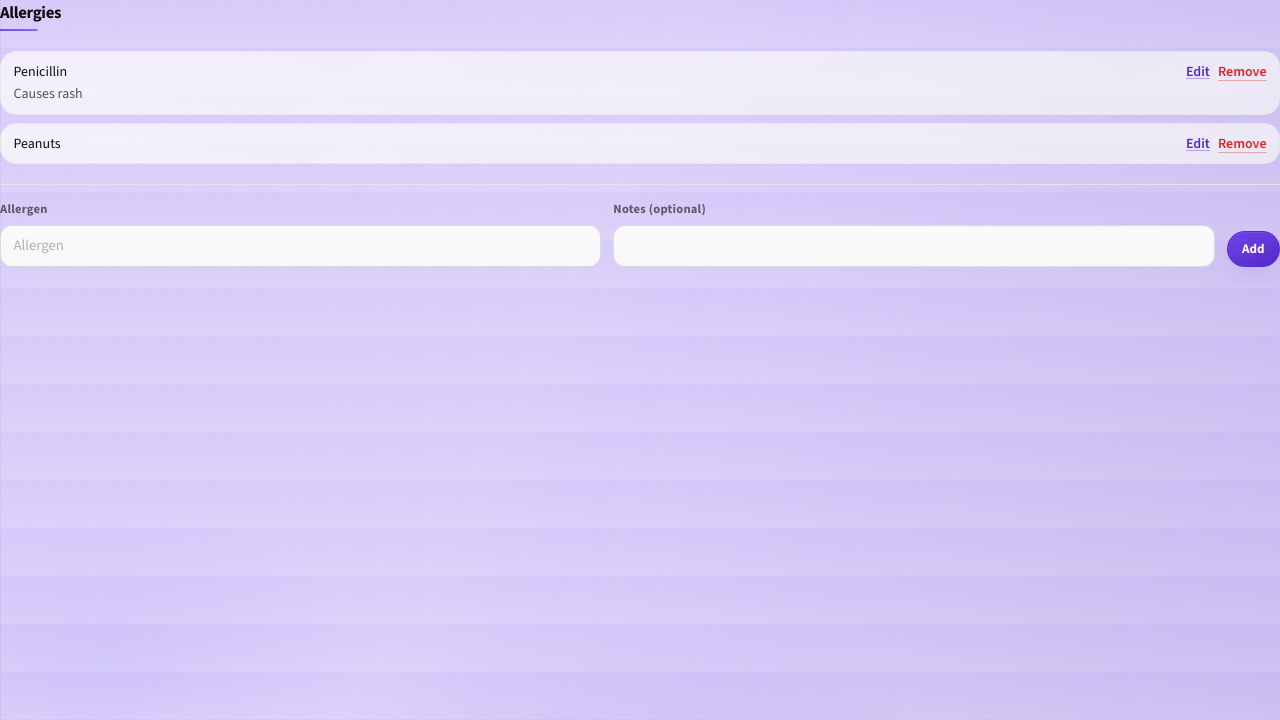
Test: AllergiesTab › Add button POSTs to /allergies and refreshes the list
Check: the text "Penicillin" is shown, box top-left (14, 62), bottom-right (67, 81)
Type "Sulfa" into the field with placeholder "Allergen" at (301, 246), box top-left (0, 225), bottom-right (601, 267)
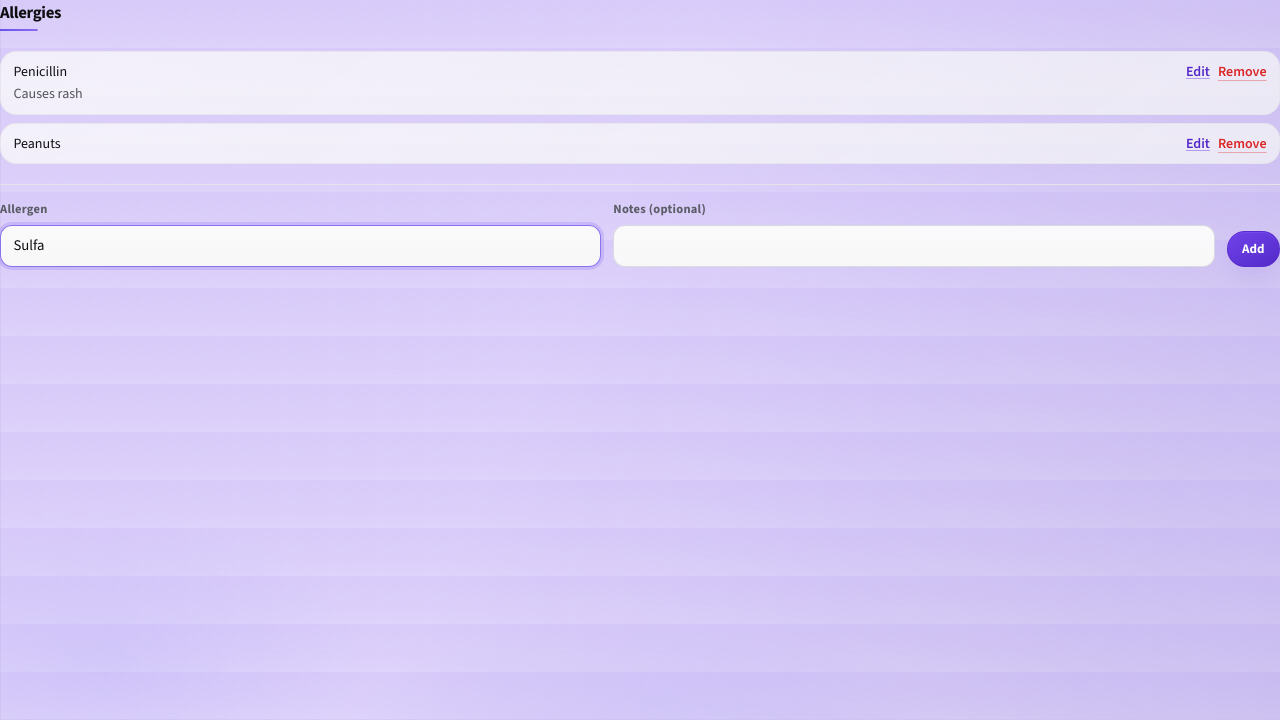
Click the button "Add" at (1253, 249), box top-left (1227, 231), bottom-right (1279, 267)
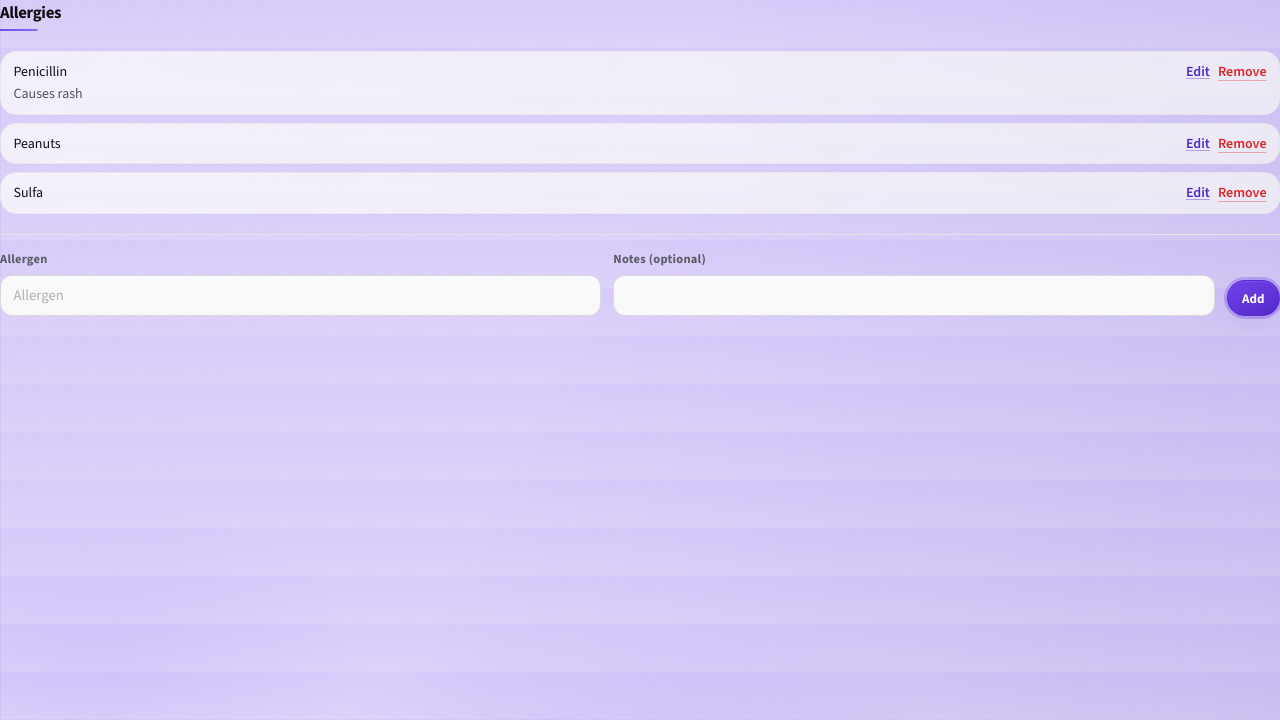
Check: the text "Sulfa" is shown, box top-left (14, 183), bottom-right (43, 202)
